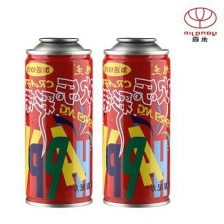aerosol_cans: (21, 29, 97, 210), (101, 34, 172, 210)
